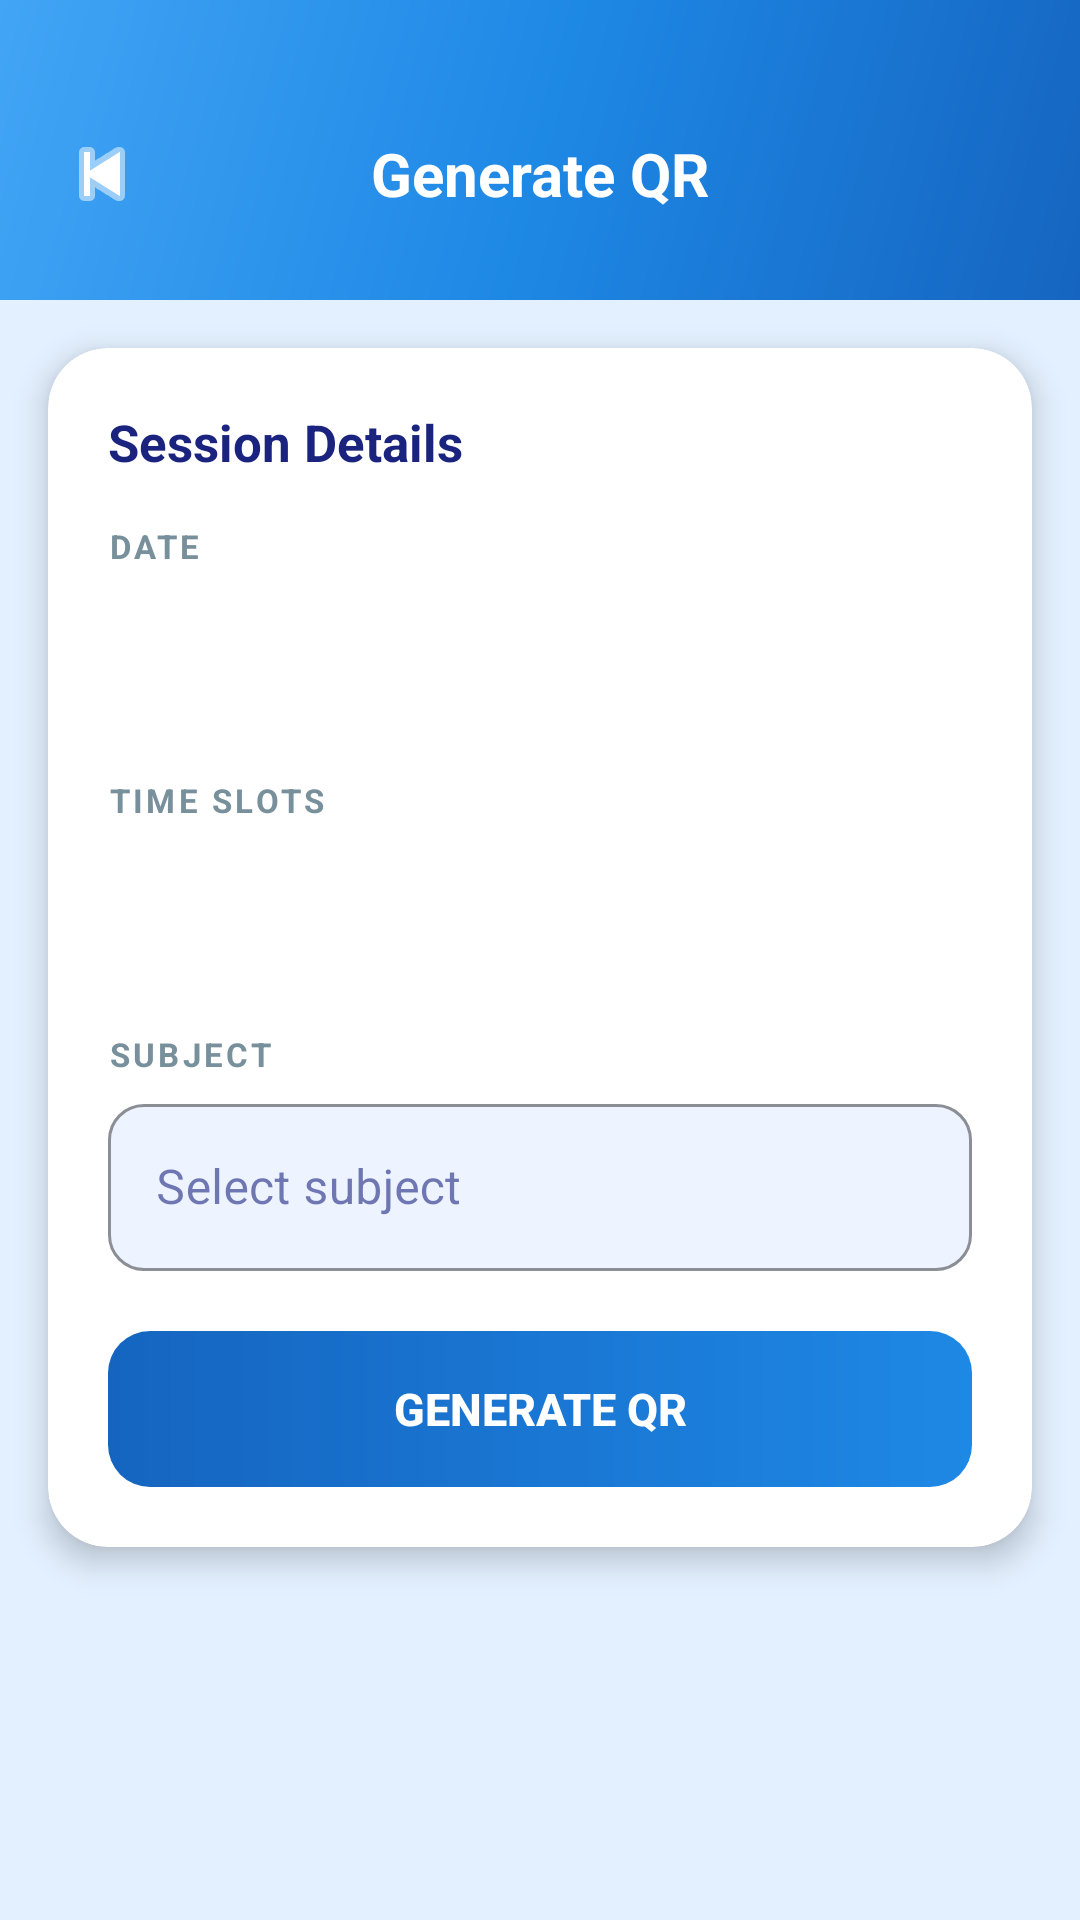

Icon bounding boxes for this 1080*1920 phone screenshot, format {"left": x1, "top": y1, "right": x2, "bottom": y2}:
previous: {"left": 79, "top": 147, "right": 125, "bottom": 201}
